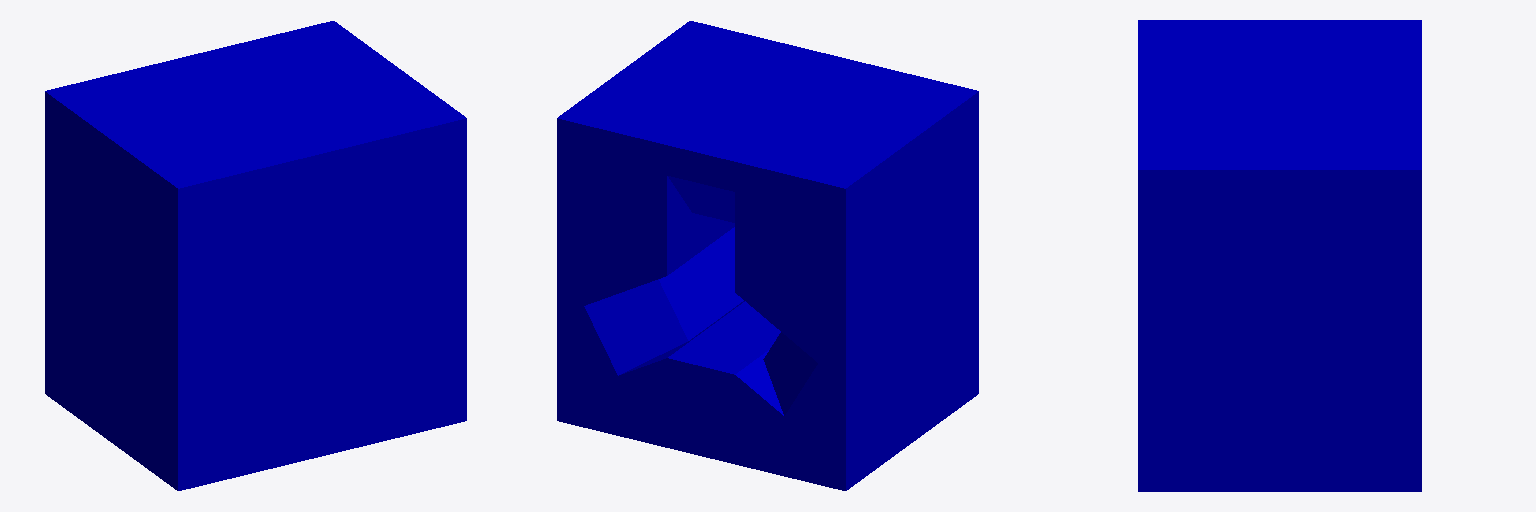
URDF robot description (receiver):
<?xml version="1.0" ?>
<robot name="receiver">
  <link name="baseLink">
    <contact>
      <lateral_friction value="0.2"/>
      <rolling_friction value="0."/>
	<restitution value="0" />
    </contact>
    <inertial>
      <origin rpy="0 0 0" xyz="0 0 0"/>
       <mass value="0."/>
       <inertia ixx="1.550E-05" ixy="0" ixz="0" iyy="1.550E-05" iyz="0" izz="3.060E-05"/>
    </inertial>
    <visual>
      <origin rpy="0 0 0" xyz="0 0 0"/>
      <geometry>
		<mesh filename="./socket_3d3.obj" scale="0.1 0.1 0.1"/>
      </geometry>
       <material name="green">
        <color rgba="0 0 0.8 0.5"/>
      </material>
    </visual>
    <collision concave="yes">
      <origin rpy="0 0 0" xyz="0 0 0"/>
      <geometry>
	 	<mesh filename="./socket_3d3.obj" scale="0.1 0.1 0.1"/>
      </geometry>
    </collision>
  </link>
</robot>

--- Render facts (derived) ---
3 views of the same robot in one strip: view 1: azimuth 30°, elevation 25°; view 2: azimuth 150°, elevation 25°; view 3: azimuth 270°, elevation 25° (orthographic).
Robot: receiver — 1 links, 0 joints (none); root link baseLink; default pose: every joint at zero.
Visible links, largest first — view 1: baseLink; view 2: baseLink; view 3: baseLink.
Boxes of the visible links, box(x1,y1,x2,y2) form: baseLink: box(45, 21, 466, 490); baseLink: box(557, 21, 978, 490); baseLink: box(1138, 20, 1421, 491).
Size in the robot's own frame: 1 by 0.8 by 1 metres.
Meshes: 1 distinct files referenced, 1 mesh visuals loaded (1 OBJ).